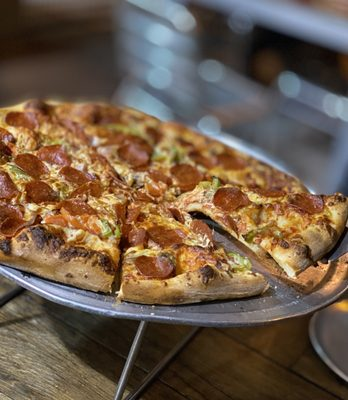sandwich: (0, 97, 345, 304)
